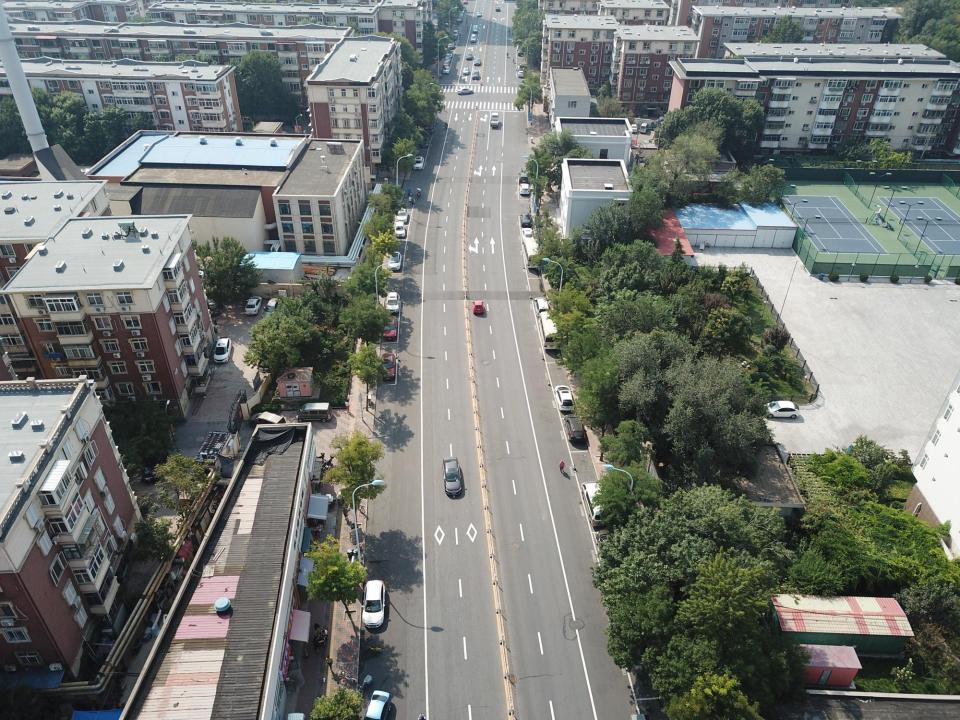bus: (538, 311, 562, 349), (522, 238, 540, 268), (422, 104, 438, 133)
car: (141, 449, 169, 483), (595, 530, 620, 568), (361, 690, 391, 720), (442, 457, 462, 495), (762, 401, 800, 419), (213, 337, 231, 362), (262, 298, 281, 321), (380, 353, 396, 380), (382, 316, 397, 340), (245, 296, 262, 314), (521, 227, 534, 243), (396, 207, 408, 223), (394, 221, 405, 237), (520, 213, 532, 227), (413, 156, 424, 170), (456, 87, 474, 95), (658, 114, 674, 122), (442, 66, 450, 74), (630, 124, 638, 132), (466, 52, 473, 60), (447, 42, 455, 49), (474, 58, 481, 65), (446, 50, 453, 57), (444, 56, 451, 62), (518, 64, 525, 70), (463, 68, 469, 74), (472, 27, 478, 33), (476, 11, 482, 17), (458, 12, 464, 18), (518, 70, 524, 76), (518, 50, 524, 56), (443, 61, 449, 66), (461, 7, 466, 12), (458, 10, 464, 14), (462, 0, 468, 4), (496, 6, 500, 11)
truck: (490, 113, 499, 127)
van: (580, 481, 612, 527), (361, 580, 385, 628), (249, 411, 286, 433), (296, 402, 332, 422), (564, 414, 586, 442), (554, 386, 574, 411), (534, 297, 551, 318), (385, 292, 400, 313), (388, 252, 402, 270), (205, 299, 221, 314), (472, 300, 484, 314), (519, 184, 530, 196), (518, 172, 530, 183), (420, 137, 430, 147), (639, 122, 648, 132), (472, 70, 479, 80), (470, 34, 476, 42), (452, 30, 458, 36), (456, 16, 462, 22)
